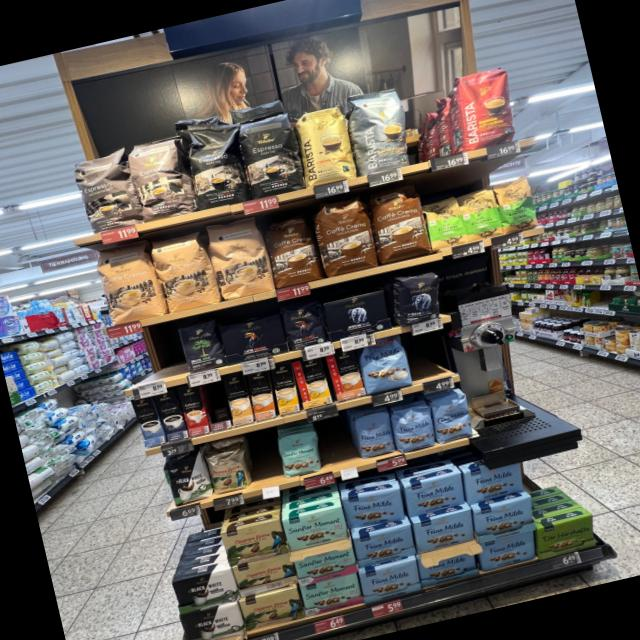AB Bohne: (392, 269, 448, 327)
AB Gemahlen: (322, 288, 393, 342)
Athiopien Bohne: (494, 177, 540, 235)
Athiopien Gemahlen: (420, 194, 470, 252), (458, 185, 506, 243)
BM Bohne: (176, 318, 228, 374)
BM Gemahlen: (218, 312, 289, 366)
BW Bohne: (159, 454, 213, 507)
BW Gemahlen: (170, 566, 238, 614), (178, 599, 245, 640)
Barista CB: (291, 104, 359, 188)
Barista CC: (344, 82, 416, 176)
Barista Kolumbien: (450, 62, 523, 154)
CC Mild: (203, 212, 275, 302), (94, 237, 165, 326), (150, 229, 220, 313)
CC Vollmundig: (326, 348, 366, 402)
CC Vollmundig 36 Pads: (311, 193, 379, 277), (367, 181, 432, 265), (260, 207, 322, 289)
Colombia BB Gemahlen: (220, 517, 290, 566), (232, 552, 299, 598), (237, 586, 305, 631), (203, 444, 254, 496)
Empty Shelf: (397, 74, 466, 163), (116, 325, 186, 387), (406, 326, 458, 382), (315, 418, 359, 468), (244, 436, 284, 484), (200, 379, 232, 424)
Espresso Aromatisch: (70, 144, 144, 233), (126, 132, 197, 222)
Espresso Kraftig: (233, 108, 306, 200), (182, 119, 251, 210)
FM 36 Pads: (356, 336, 414, 394)
FM Bohne: (389, 402, 437, 454), (351, 408, 397, 462), (429, 392, 477, 443)
FM Gemahlen: (471, 495, 538, 543), (341, 484, 406, 532), (411, 508, 477, 554), (351, 523, 417, 568), (402, 471, 468, 516), (358, 558, 422, 604), (416, 544, 478, 586), (476, 530, 538, 570)
Herzhatfe Mundig: (536, 514, 598, 558)
LG Bohne: (280, 297, 328, 351)
SM Bohne: (276, 426, 323, 478)
SM Gemahlen: (281, 505, 349, 552), (293, 543, 358, 585), (300, 572, 362, 616)
Simo CCMild: (292, 354, 332, 408)
Simo CCMild bigpack: (270, 362, 299, 415)
Simo CCVollmundig bigpack: (246, 369, 276, 422)
Simo Decaff: (223, 374, 254, 426)
Simo Es Brazil: (176, 383, 210, 437)
Simo Es Kraft: (153, 389, 188, 441)
Simo Es Vanilla: (130, 396, 167, 447)
